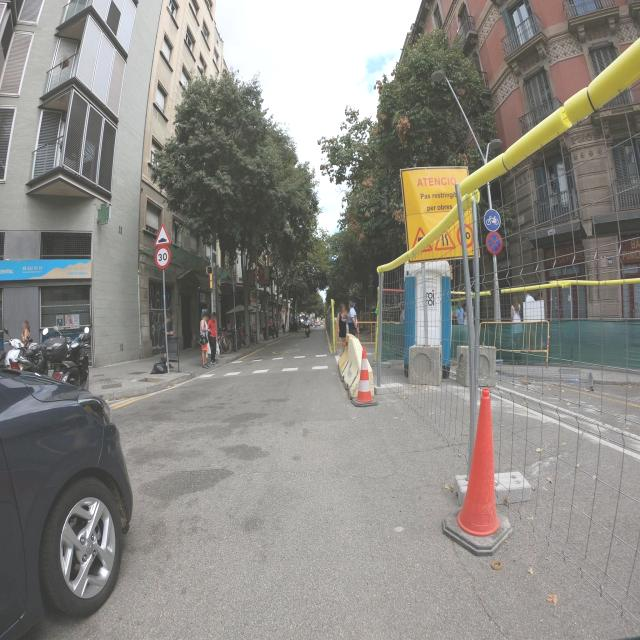bike: (304, 320, 312, 338)
car: (0, 354, 134, 637), (14, 324, 92, 386)
